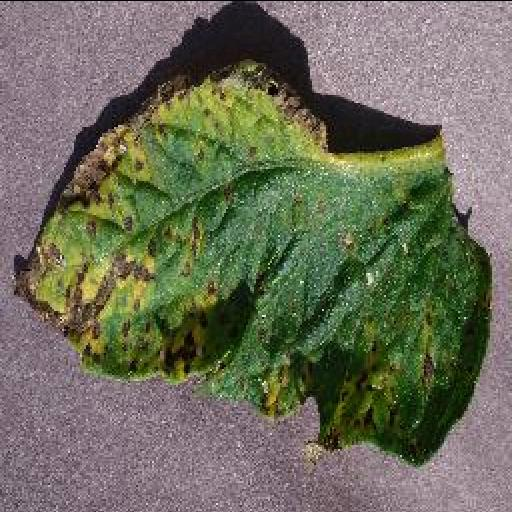disease_tomato: (14, 61, 492, 466)
